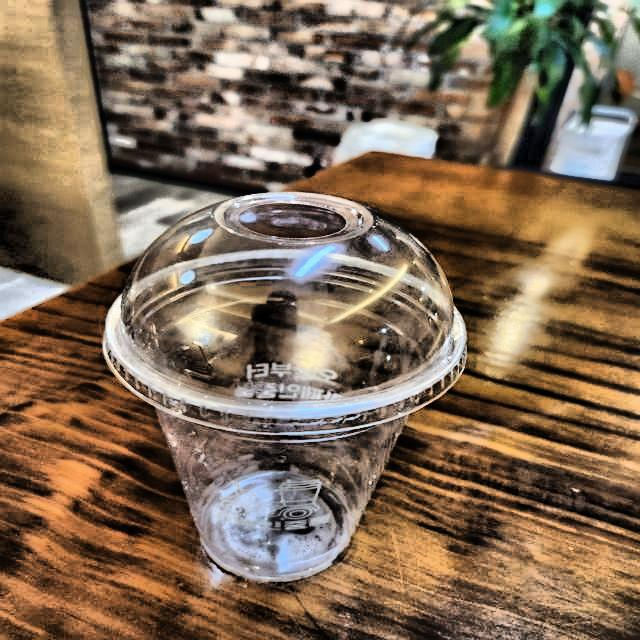plastic cup: (86, 182, 495, 602)
